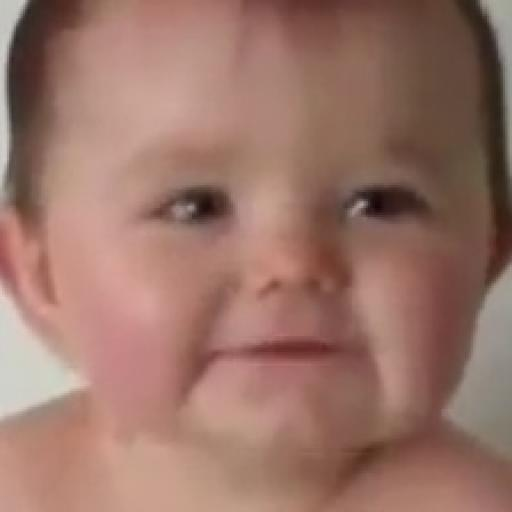Autism: (13, 10, 512, 458)
